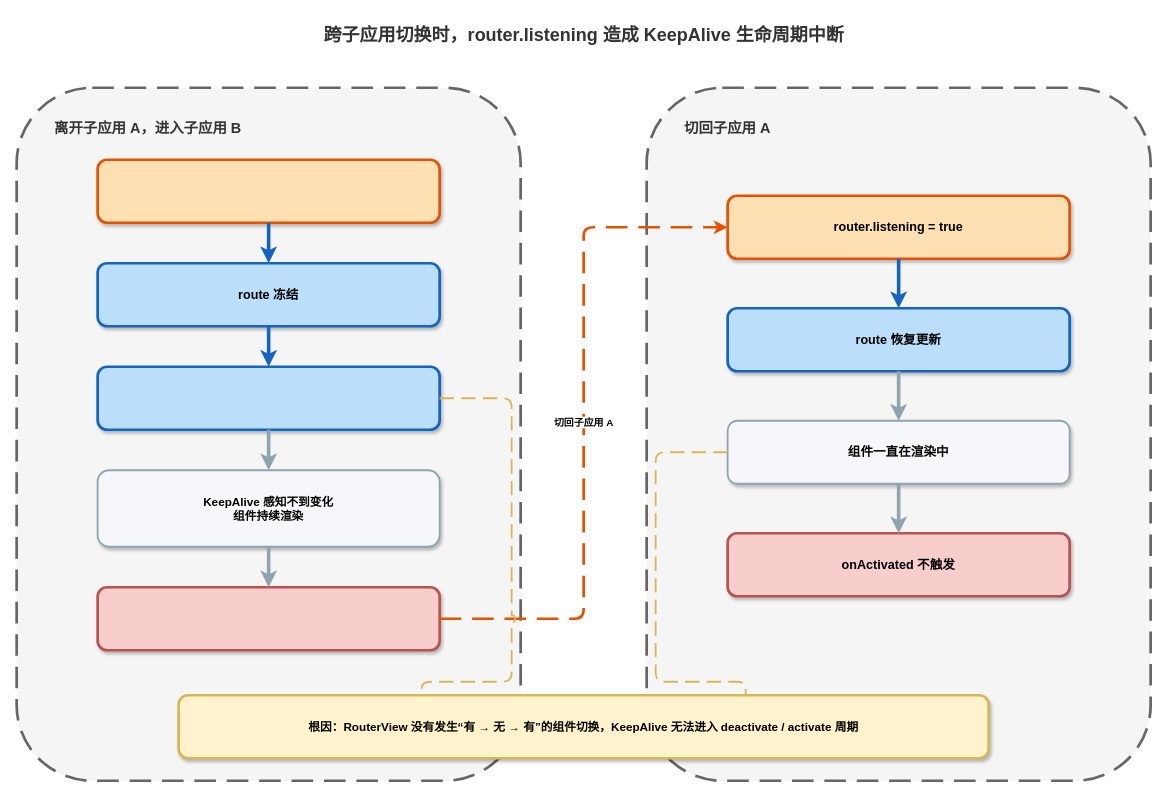
Image size: 1167x797. Some labels were removed from this diagram. Here are the shapes that lost their labels. From the top down, the centre of each, then its label:
At point 269,192: "router.listening = false".
At point 269,399: "RouterView 不切换组件".
At point 269,619: "onDeactivated 不触发".
